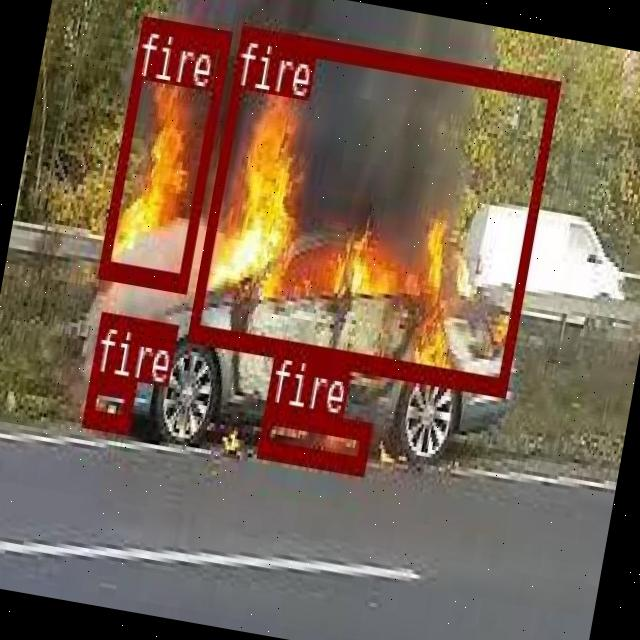fire: (187, 25, 558, 394), (98, 13, 231, 287), (256, 403, 370, 472), (80, 373, 134, 429)
